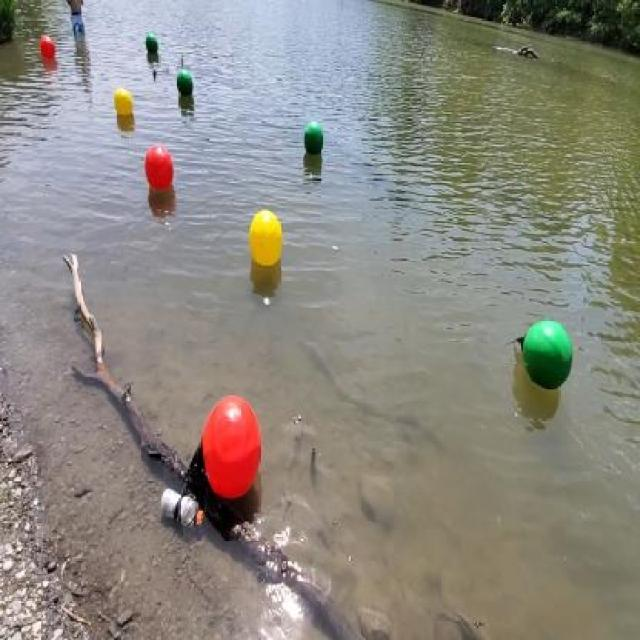buoy: (188, 394, 262, 502), (513, 318, 573, 392), (248, 209, 282, 266), (144, 144, 174, 190), (304, 120, 324, 156), (114, 87, 132, 116), (177, 68, 194, 98), (39, 34, 55, 60), (144, 32, 158, 54)
